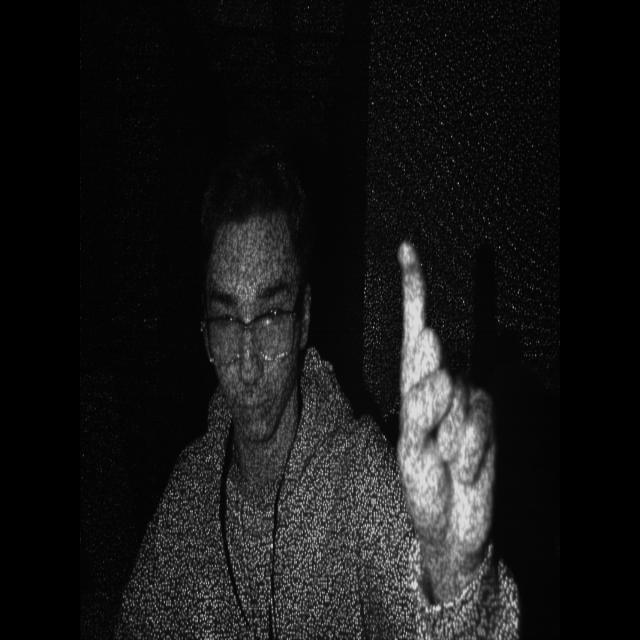X: (374, 199, 508, 573)
